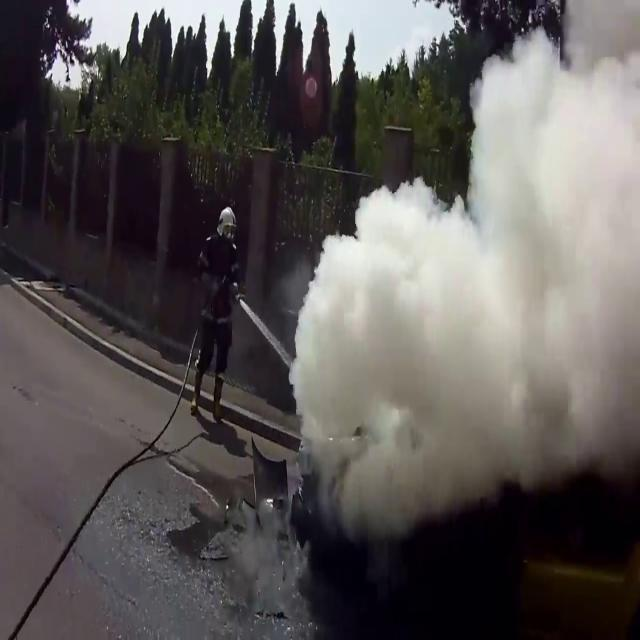Smoke: (269, 4, 640, 542)
